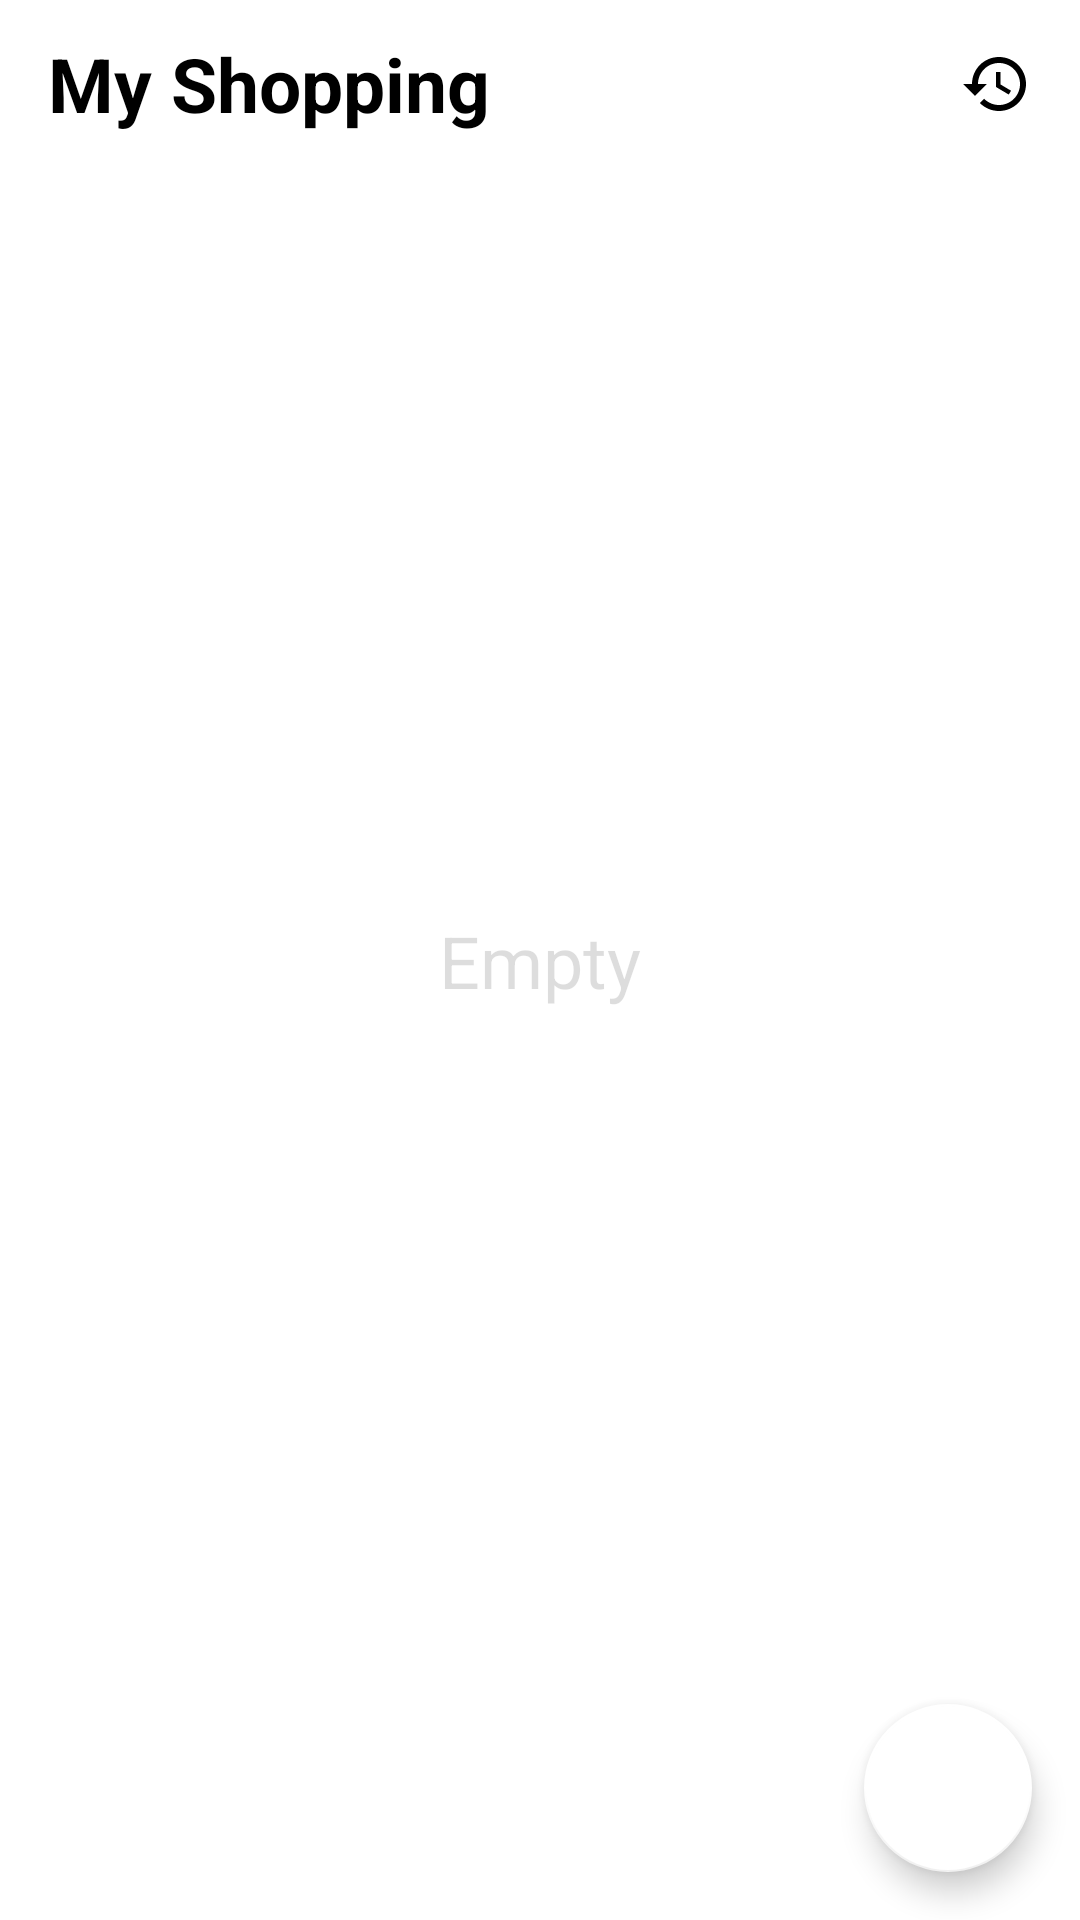

Icon click points for this 1080px×1920px phone screenshot, format (x=x, y=y):
history: (x=994, y=84)
